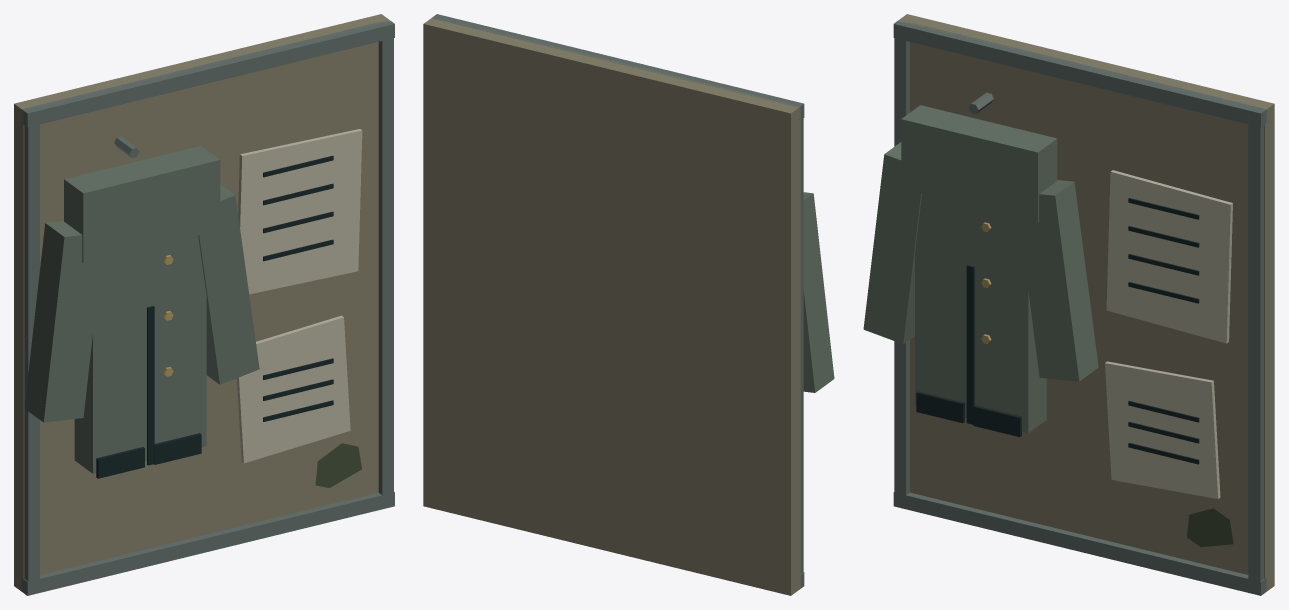
The model's file is v115-yard-coat-noticeboard.glb.
3 views of the same model, side by side, from view 1: azimuth 30°, elevation 25°; view 2: azimuth 150°, elevation 25°; view 3: azimuth 330°, elevation 25° (orthographic).
Parts seen in each view (by area): view 1: coat-noticeboard; view 2: coat-noticeboard; view 3: coat-noticeboard.
Part boxes in pixels (x1,y1,x2,y2): coat-noticeboard: [14, 14, 394, 595]; coat-noticeboard: [423, 14, 834, 595]; coat-noticeboard: [863, 14, 1274, 595].
Bounding box in the file's own units: 1.12 × 1.38 × 0.199.
